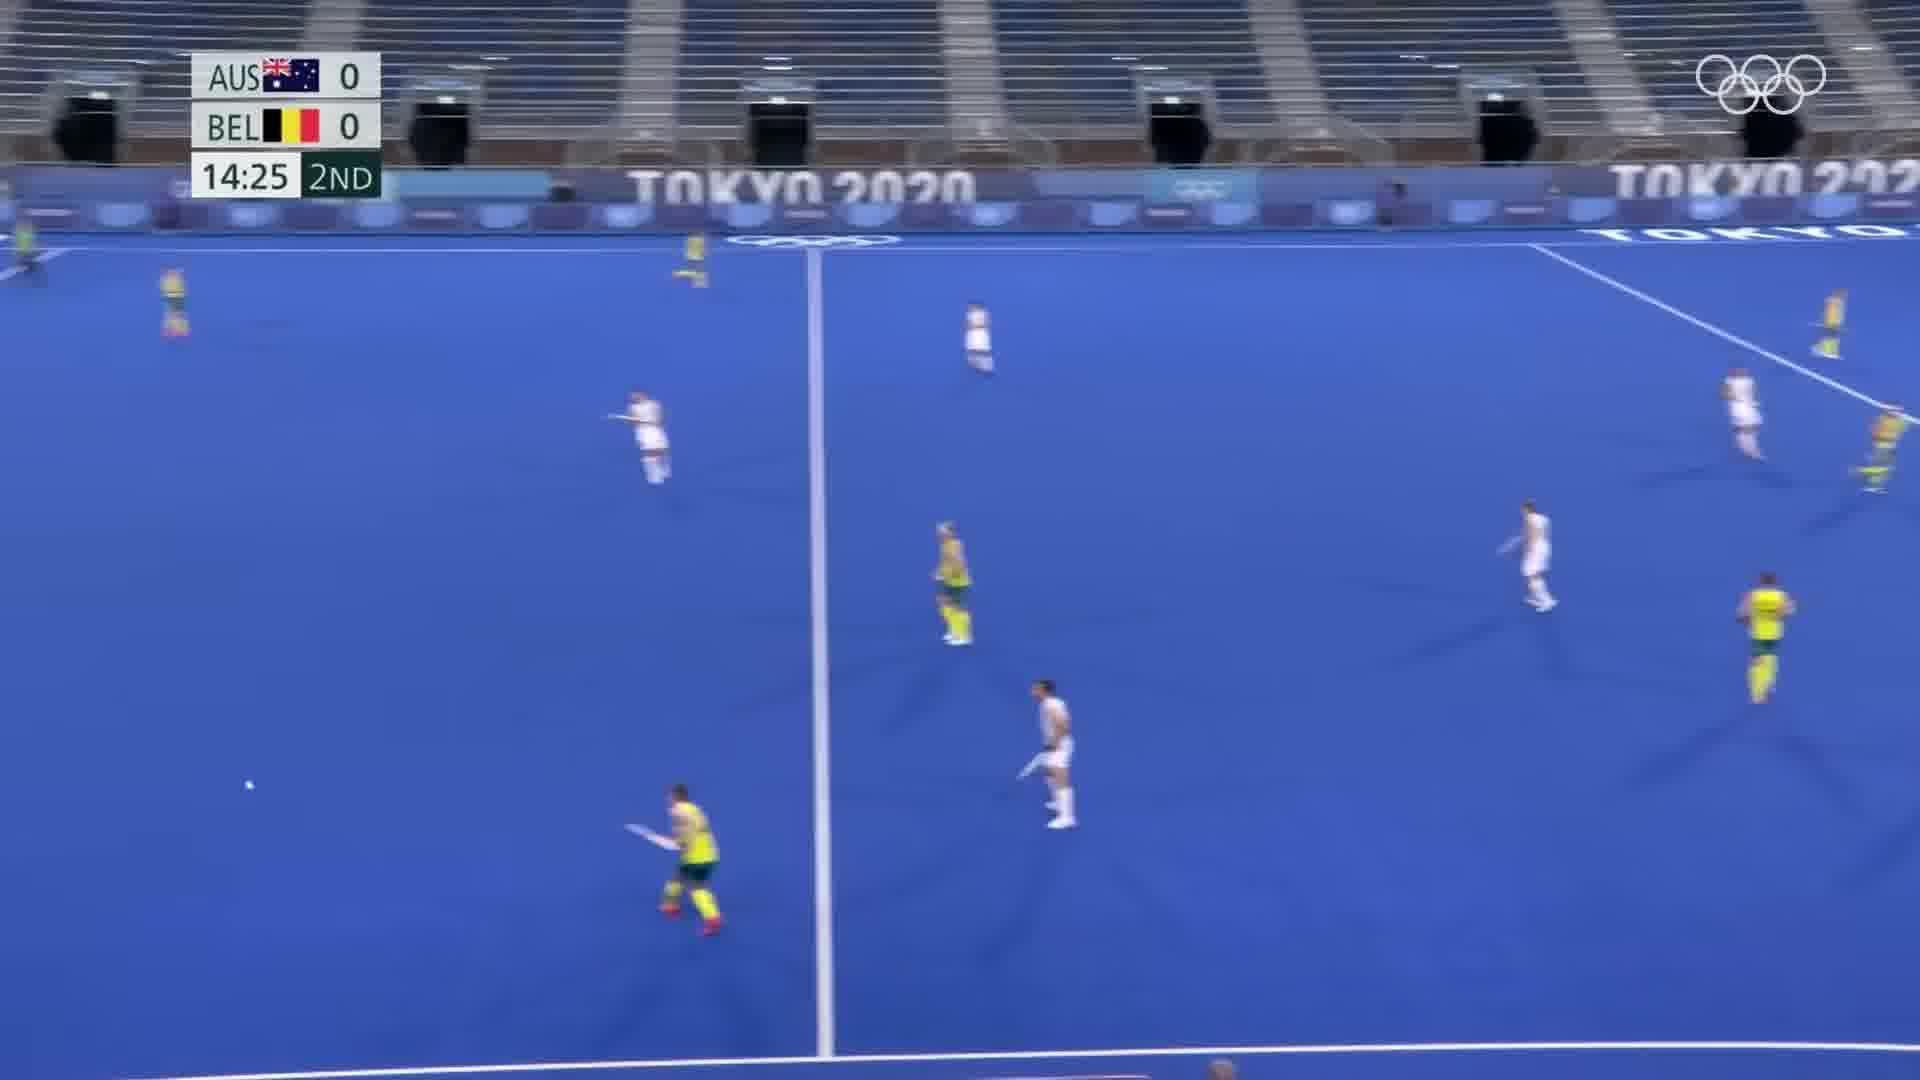ball: (241, 775, 264, 796)
